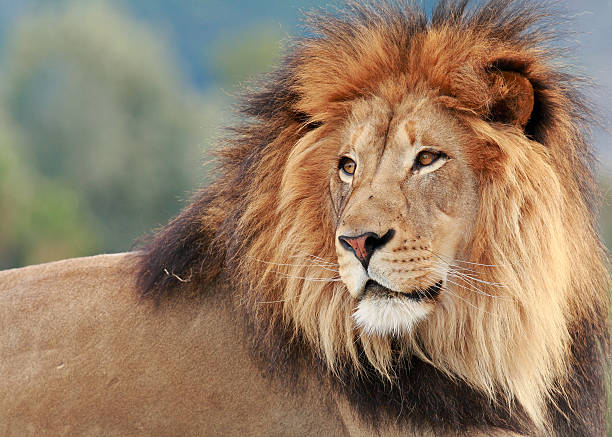lion: (120, 5, 610, 437)
